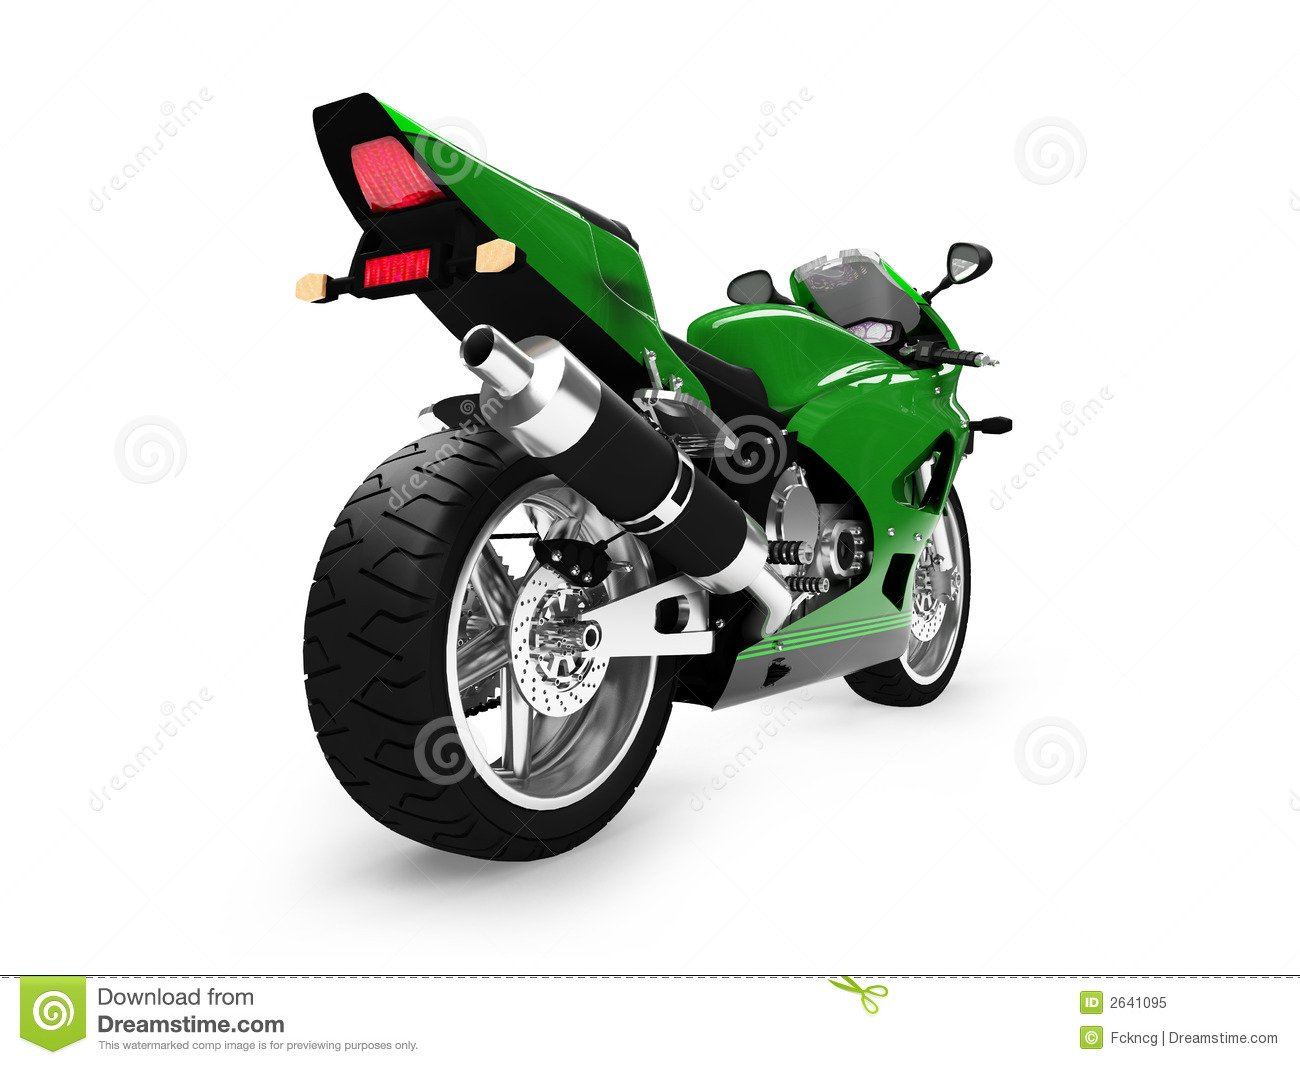motor: (296, 148, 1008, 800)
